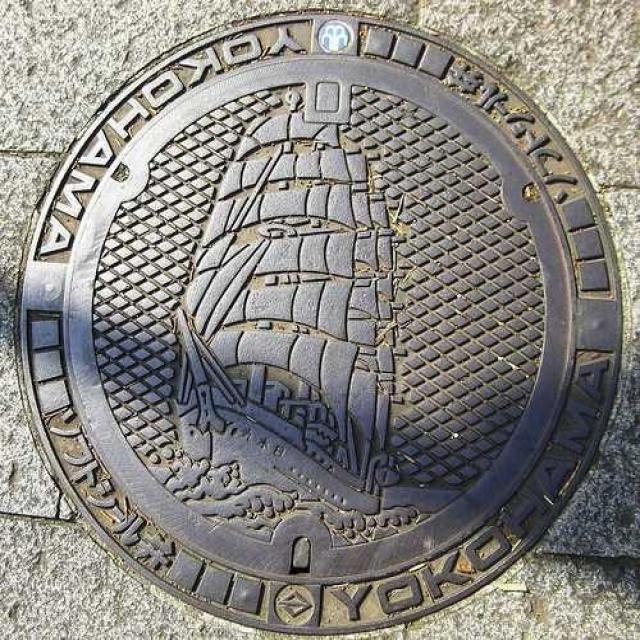manhole: (21, 13, 620, 632)
